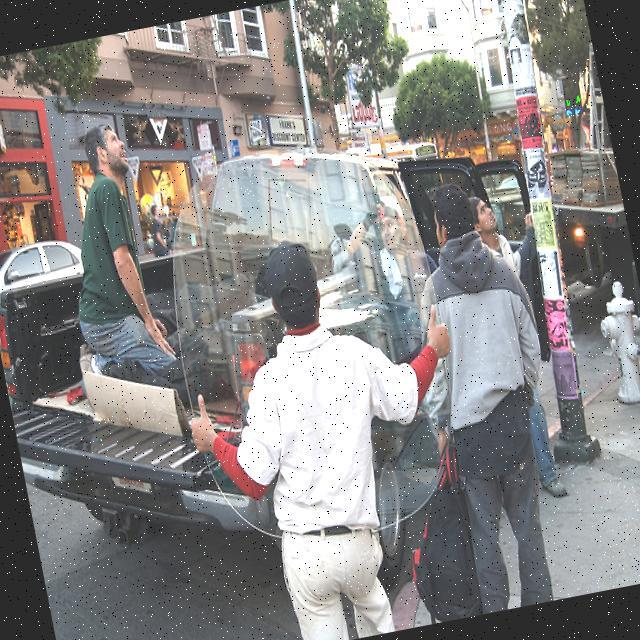fire_hydrant: (593, 278, 640, 408)
